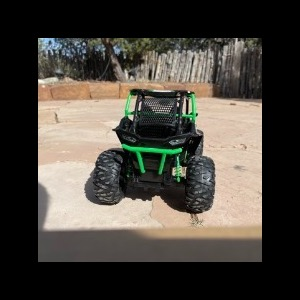polaris: (91, 86, 220, 214)
